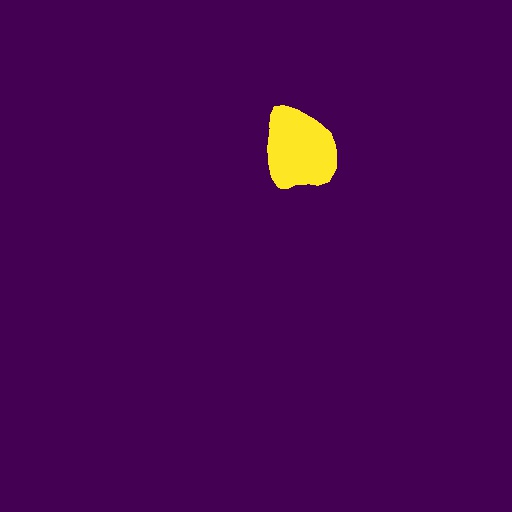Gliomia_tumour: (267, 105, 337, 189)
